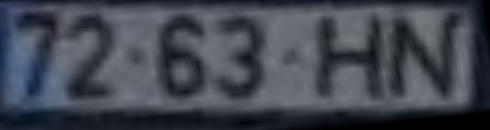2: (61, 10, 127, 108)
3: (211, 13, 271, 104)
6: (156, 10, 215, 106)
7: (13, 11, 68, 106)
H: (315, 12, 390, 106)
N: (390, 13, 464, 104)
